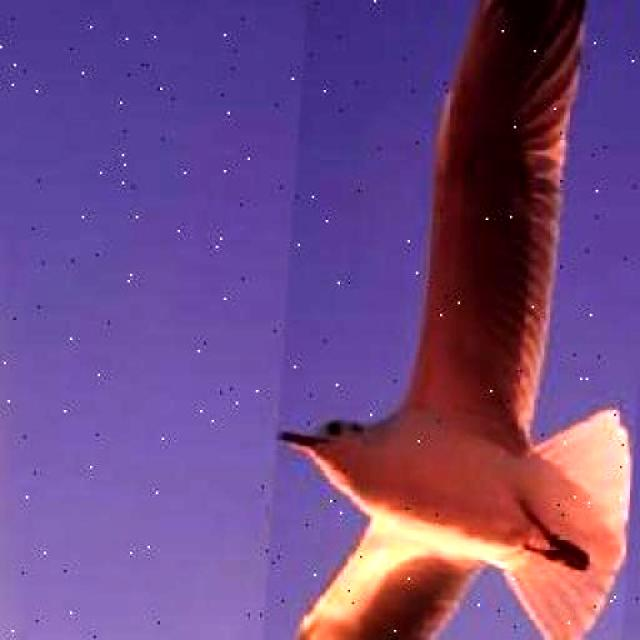airplane: (249, 0, 640, 640)
